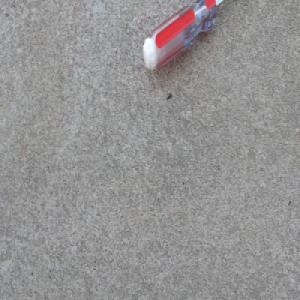Screwdriver: (141, 0, 230, 71)
